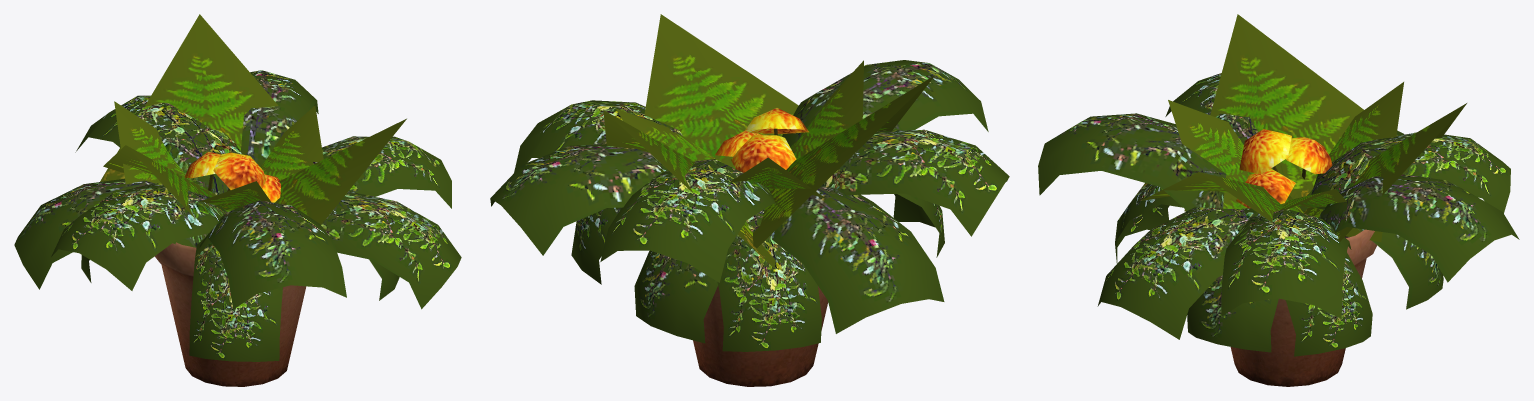
Rendered from potted_plant3.glb.
3 renders of one model, left to right at view 1: azimuth 30°, elevation 25°; view 2: azimuth 150°, elevation 25°; view 3: azimuth 270°, elevation 25°, orthographic. The views are drawn at different scales.
Parts seen in each view (by area): view 1: potted_plant3; view 2: potted_plant3; view 3: potted_plant3.
Part boxes in pixels (x1,y1,x2,y2): potted_plant3: (14, 14, 461, 386); potted_plant3: (490, 14, 1009, 386); potted_plant3: (1038, 14, 1519, 386).
Size of the model in its own units: 0.8382 by 0.5637 by 0.8588.
3 materials, 3 textured.
